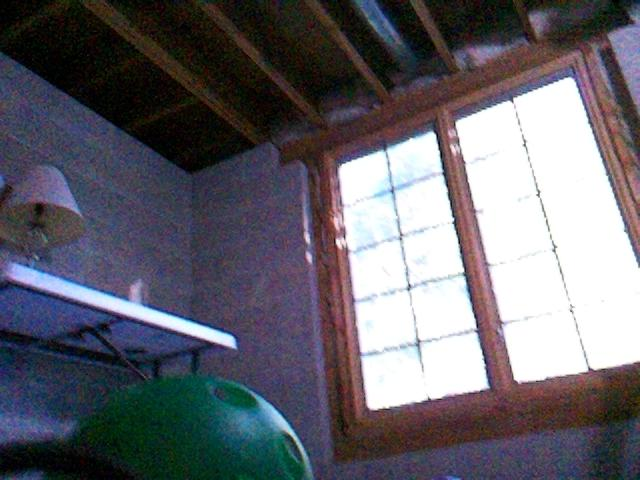Green: (48, 370, 317, 480)
